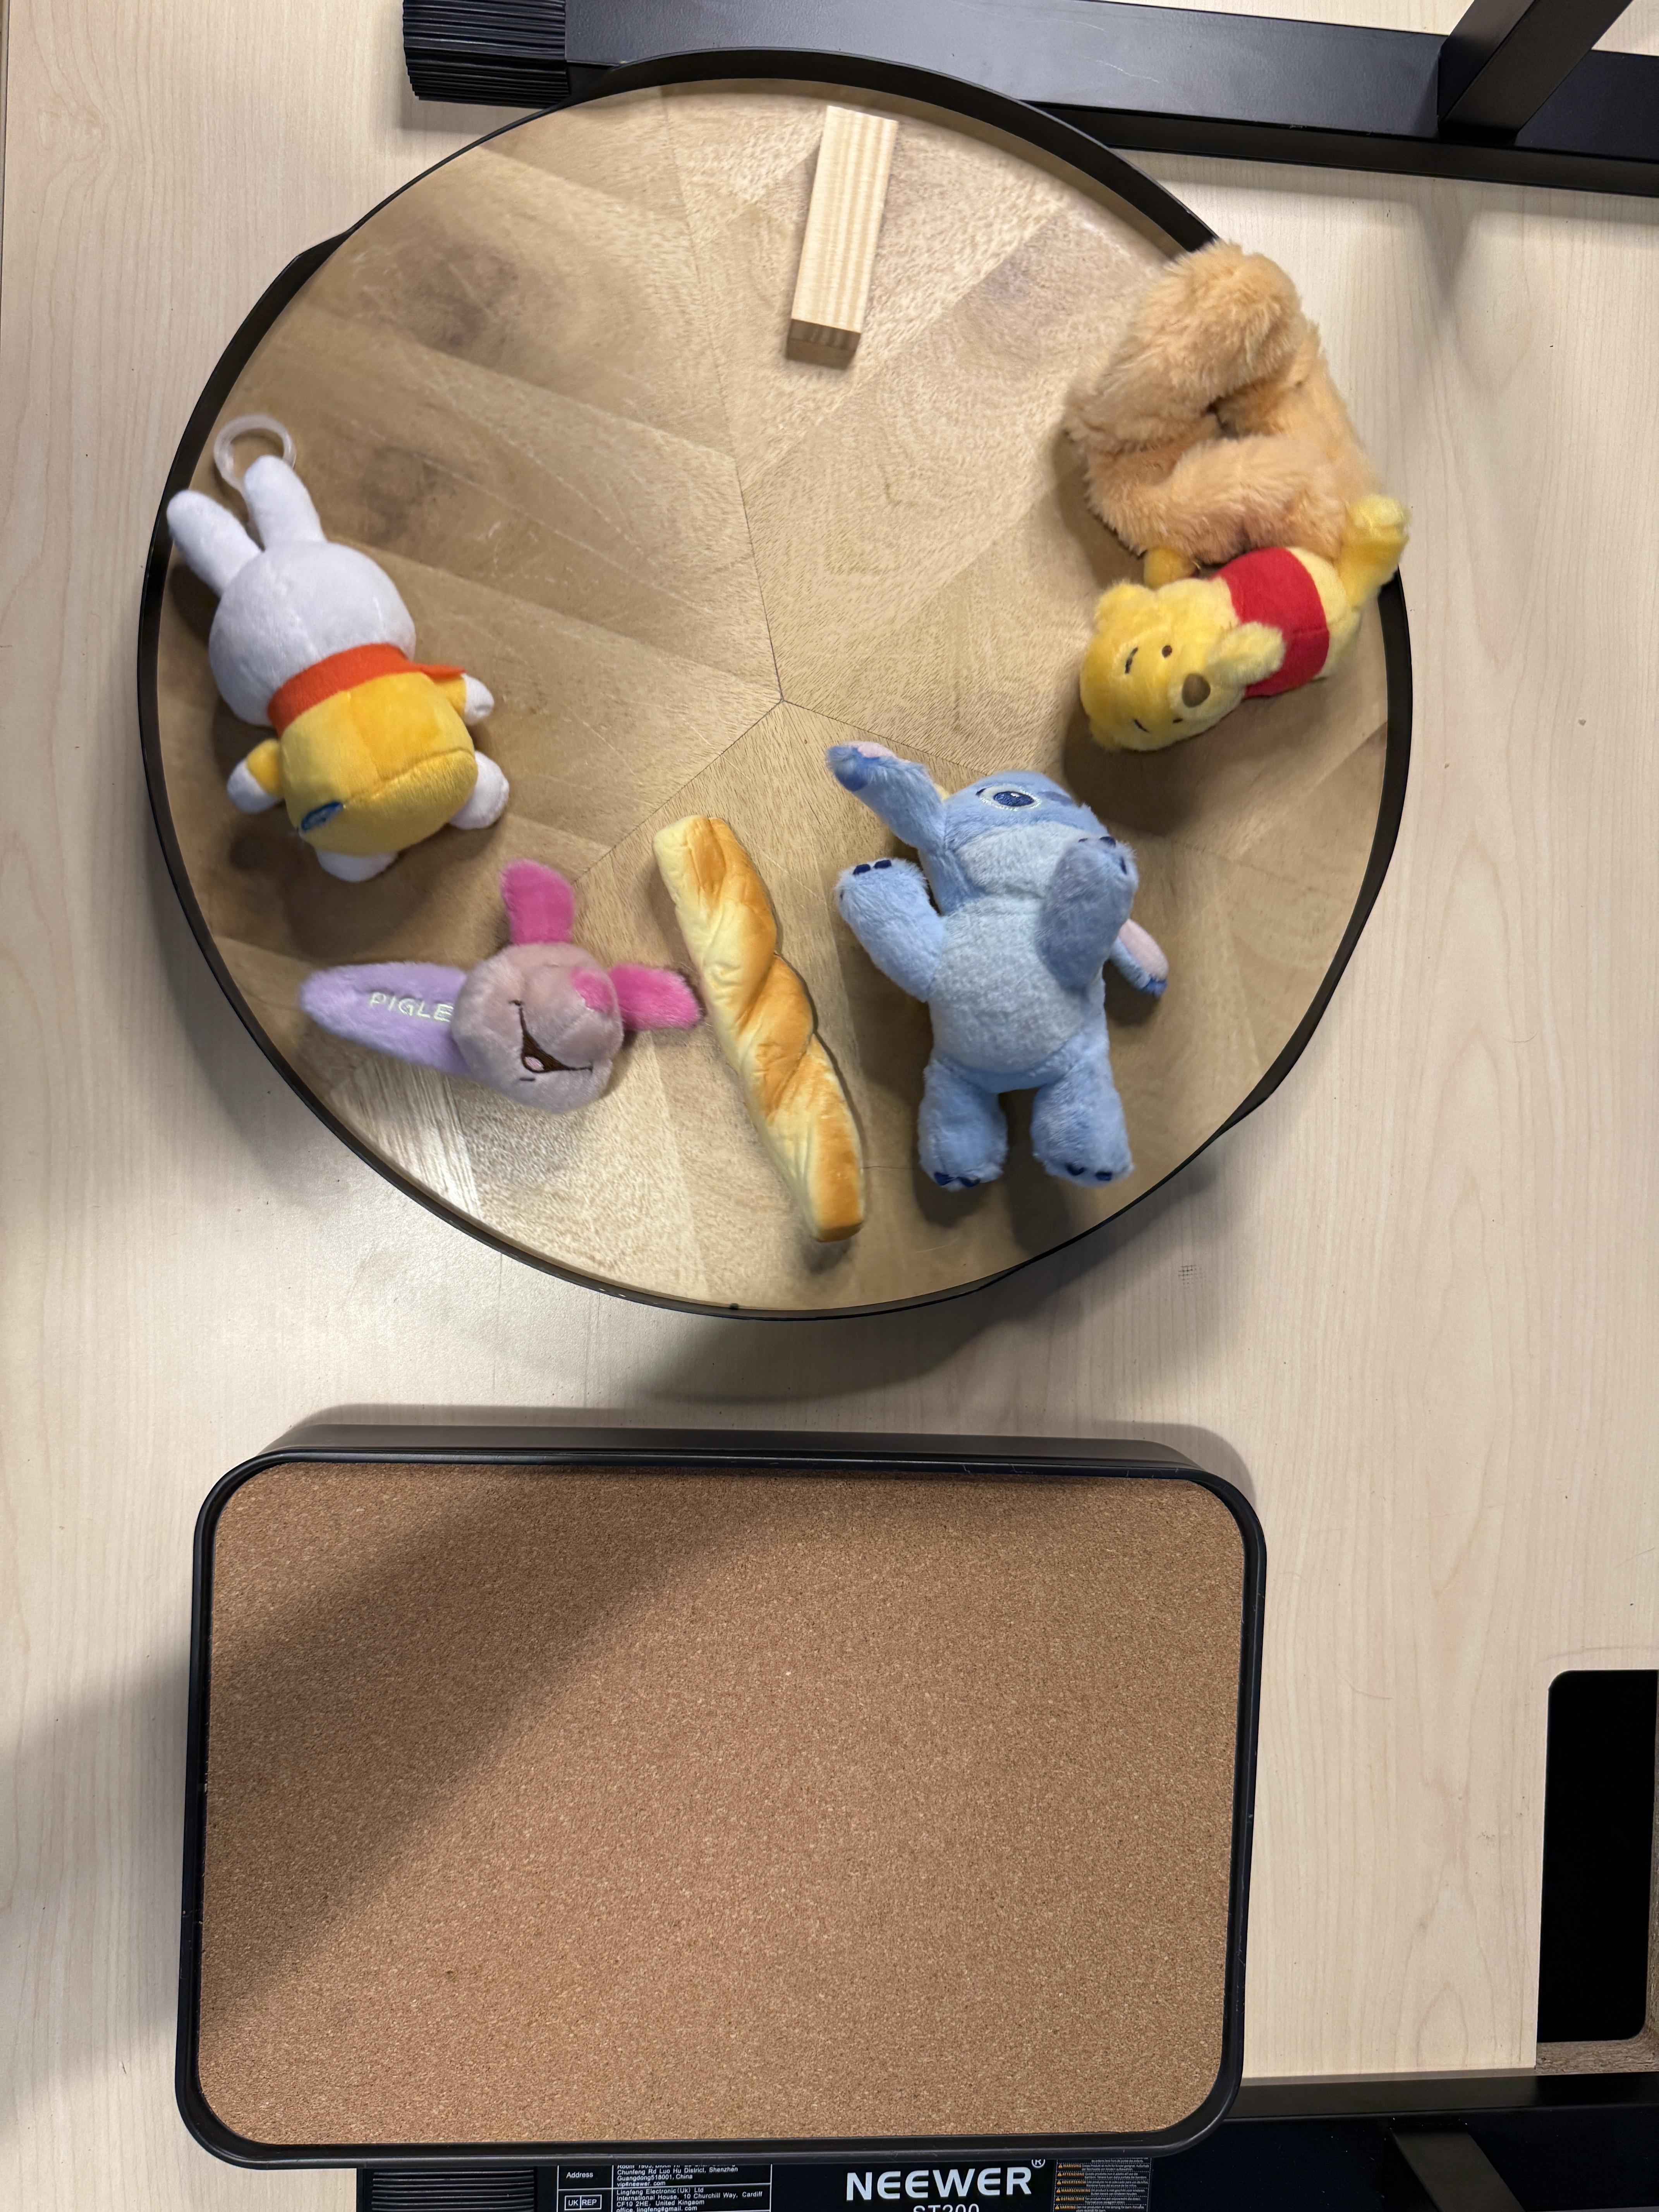block: (782, 101, 904, 338)
bread: (659, 817, 877, 1240)
doll: (1068, 244, 1412, 752), (162, 418, 521, 890), (836, 744, 1171, 1202), (301, 860, 706, 1109)
